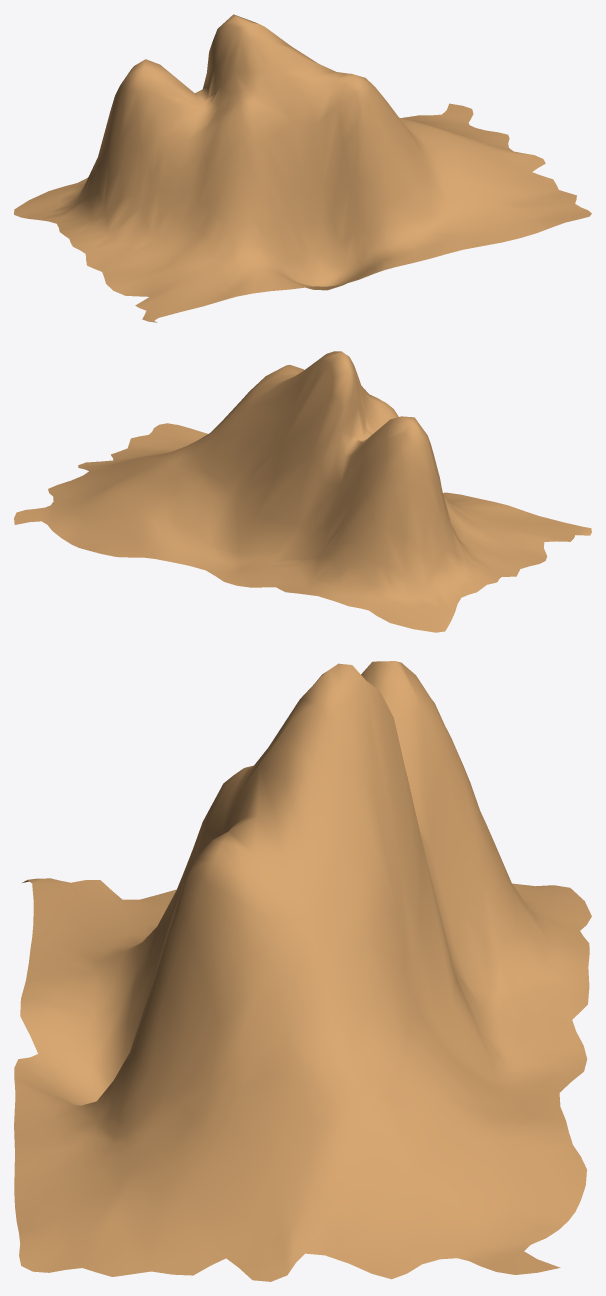
File: farground1.fbx
3 views of the same model, one above another, from view 1: azimuth 30°, elevation 25°; view 2: azimuth 150°, elevation 25°; view 3: azimuth 270°, elevation 25° (orthographic). The views are drawn at different scales.
Parts seen in each view (by area): view 1: polySurface1; view 2: polySurface1; view 3: polySurface1.
Part boxes in pixels (x1=…): polySurface1: x1=14, y1=14, x2=591, y2=322; polySurface1: x1=14, y1=351, x2=591, y2=632; polySurface1: x1=14, y1=661, x2=591, y2=1281.
Size of the model in its own units: 1590 by 764 by 947.
